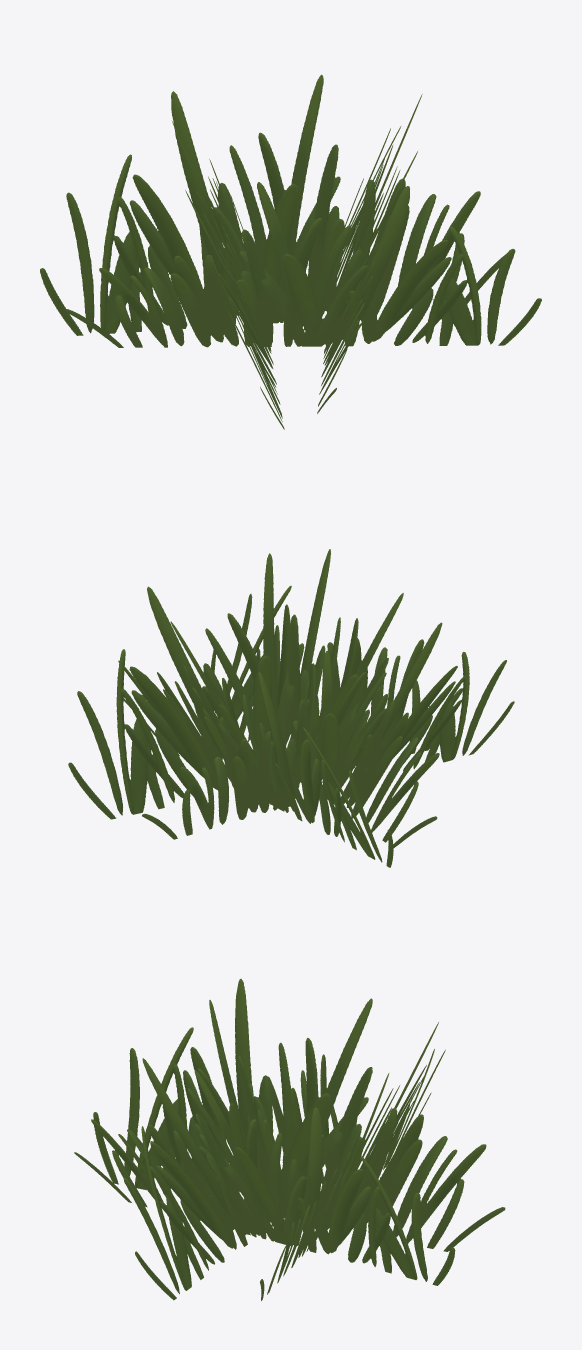
The model's file is Rocks_Grass3.fbx.
3 renders of one model, top to bottom at view 1: azimuth 30°, elevation 25°; view 2: azimuth 150°, elevation 25°; view 3: azimuth 270°, elevation 25°, orthographic. The views are drawn at different scales.
Parts seen in each view (by area): view 1: Rocks_Grass3_LOD0; view 2: Rocks_Grass3_LOD0; view 3: Rocks_Grass3_LOD0.
Part boxes in pixels (<box>): Rocks_Grass3_LOD0: <box>40,74,541,429</box>; Rocks_Grass3_LOD0: <box>68,549,514,867</box>; Rocks_Grass3_LOD0: <box>74,978,505,1300</box>.
Size of what is drawn, in the model's own units: 115 by 45.4 by 113.
